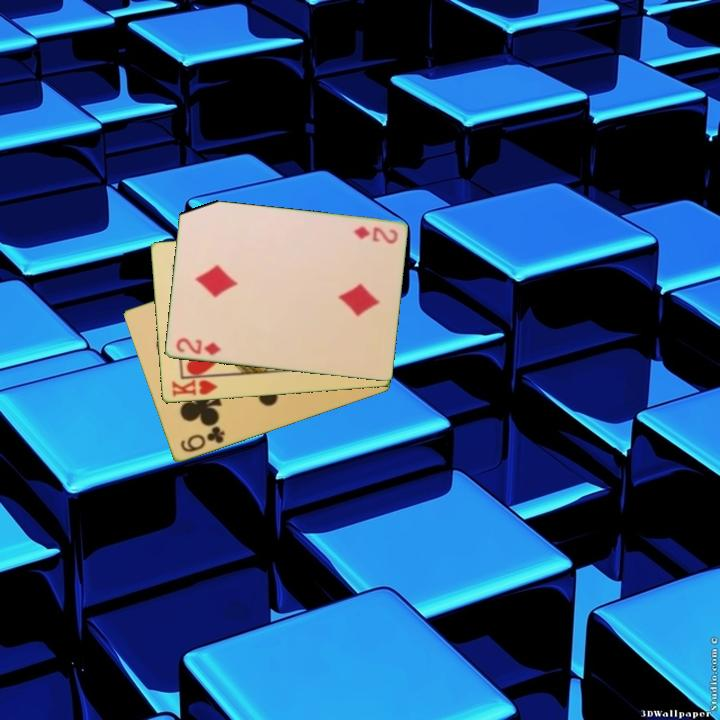2d: (172, 334, 223, 359), (350, 223, 400, 246)
6c: (177, 423, 227, 455)
Kh: (168, 373, 223, 399)
